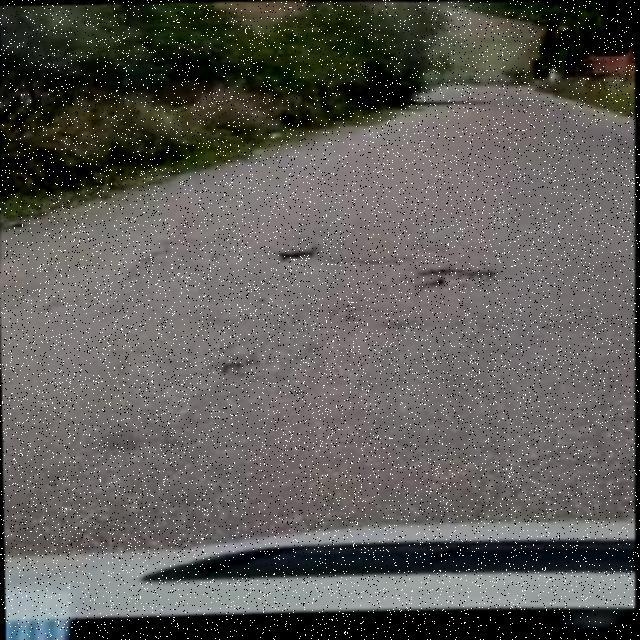Pothole: (416, 268, 498, 289), (277, 248, 316, 261)
